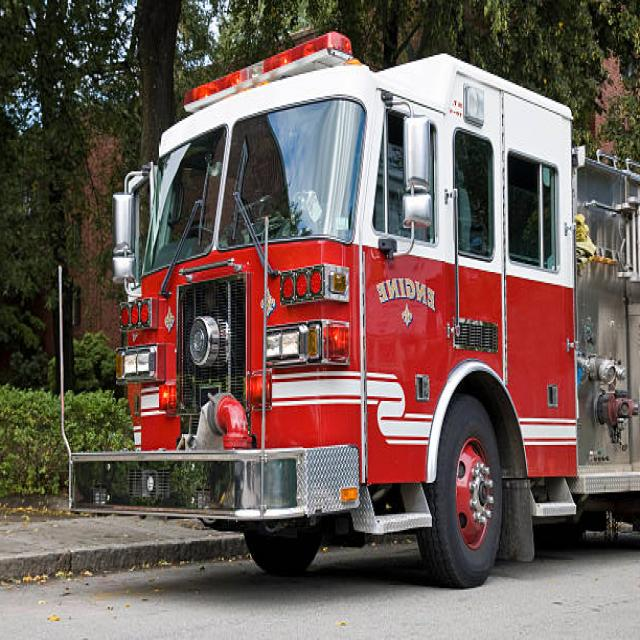emergency: (71, 32, 640, 585)
